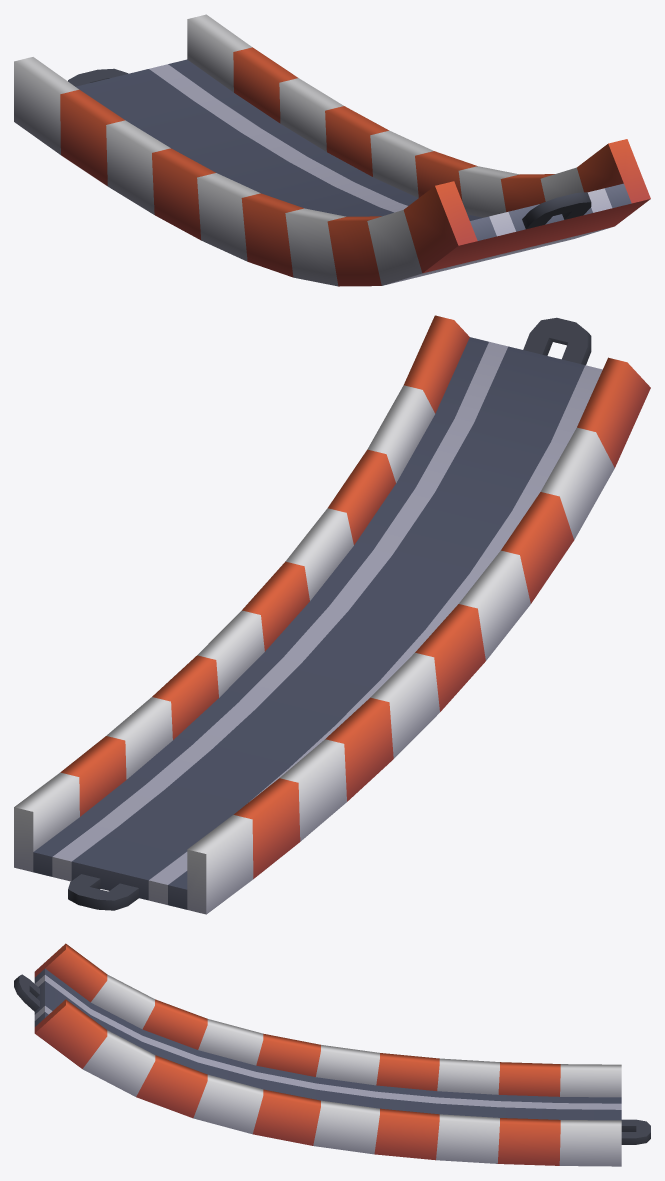
File: track-road-narrow-straight-hill-beginning.glb
3 renders of one model, top to bottom at view 1: azimuth 30°, elevation 25°; view 2: azimuth 150°, elevation 25°; view 3: azimuth 270°, elevation 25°, orthographic. The views are drawn at different scales.
Parts seen in each view (by area): view 1: track-road-narrow-straight-hill-beginning; view 2: track-road-narrow-straight-hill-beginning; view 3: track-road-narrow-straight-hill-beginning.
Boxes of the visible parts, x1,y1,x2,y2 form: track-road-narrow-straight-hill-beginning: [14, 14, 650, 286]; track-road-narrow-straight-hill-beginning: [14, 315, 650, 914]; track-road-narrow-straight-hill-beginning: [14, 943, 650, 1166].
Bounding box in the file's own units: 1 × 1.21 × 4.34.
